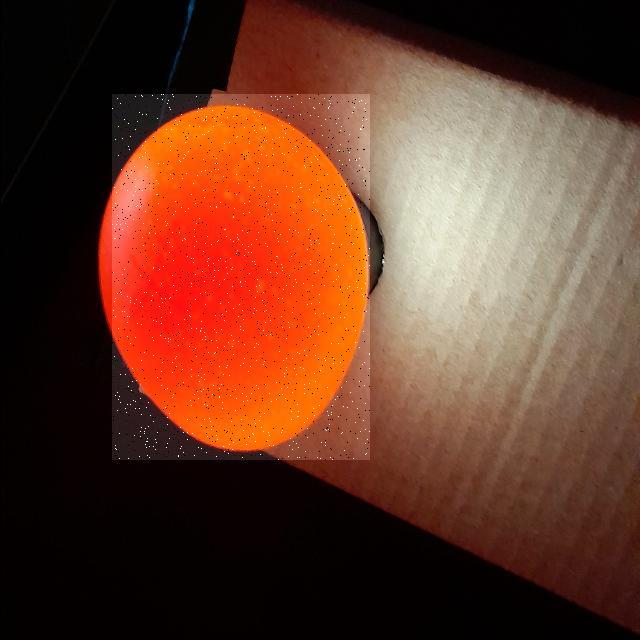A - Good: (112, 94, 370, 460)
